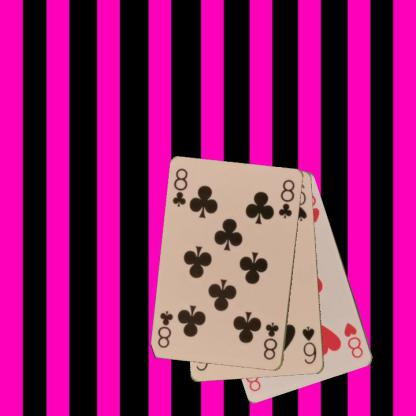6s: (299, 324, 318, 366)
8c: (261, 320, 280, 362), (170, 166, 189, 208)
8h: (342, 320, 364, 360)
